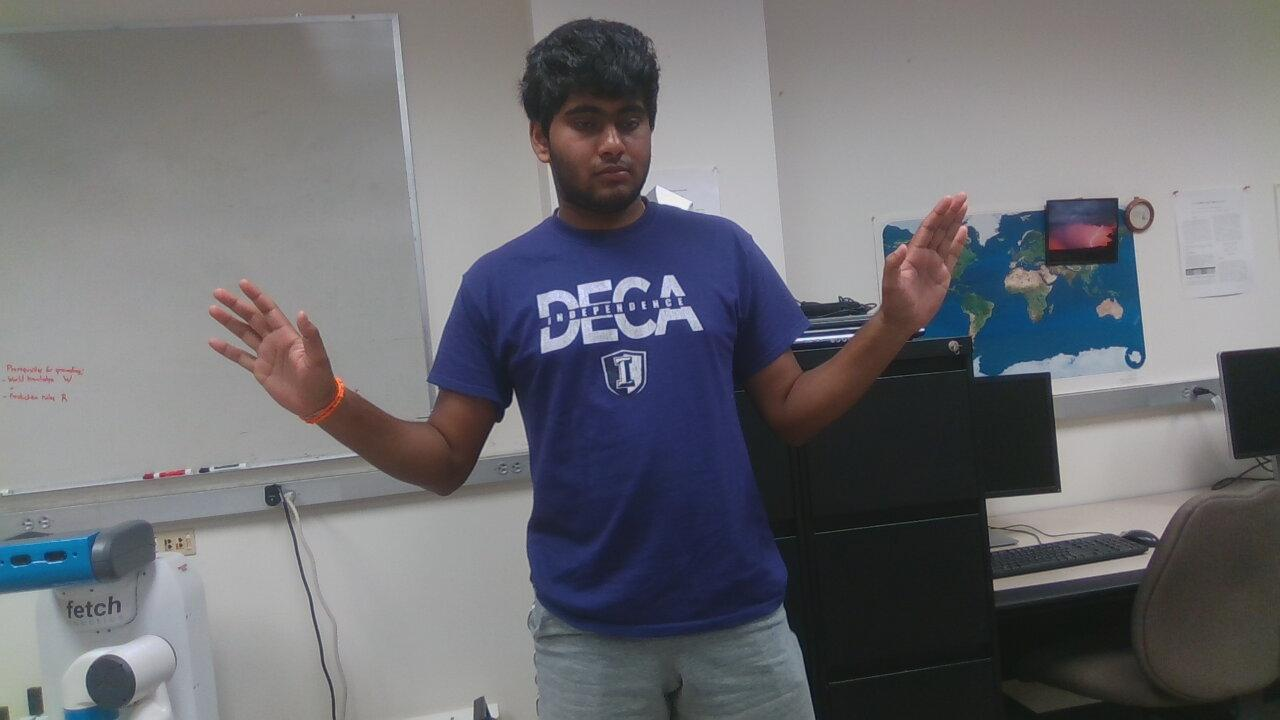hands: (186, 267, 346, 428), (876, 194, 985, 343)
